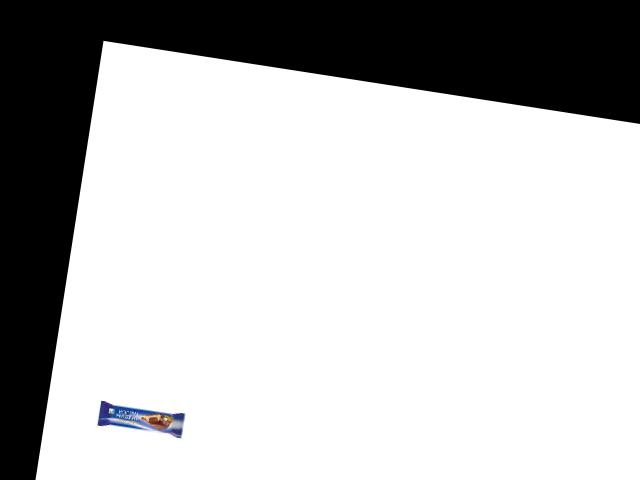chocolate: (95, 392, 197, 441)
